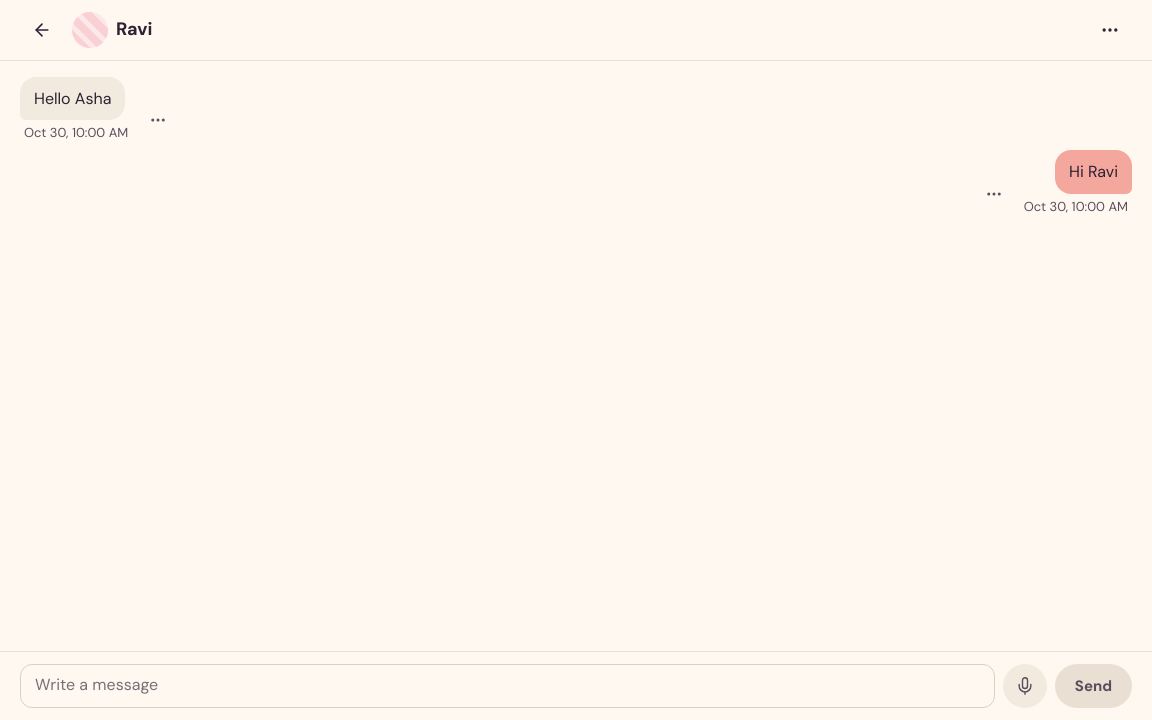
ConversationView › sends a message, adds it to the list and empties the field
This screenshot has width=1152, height=720.
Type " Thanks! " into the text box named "Message to Ravi". click: coordinates (507, 686)
box: top-left (20, 664), bottom-right (995, 708)
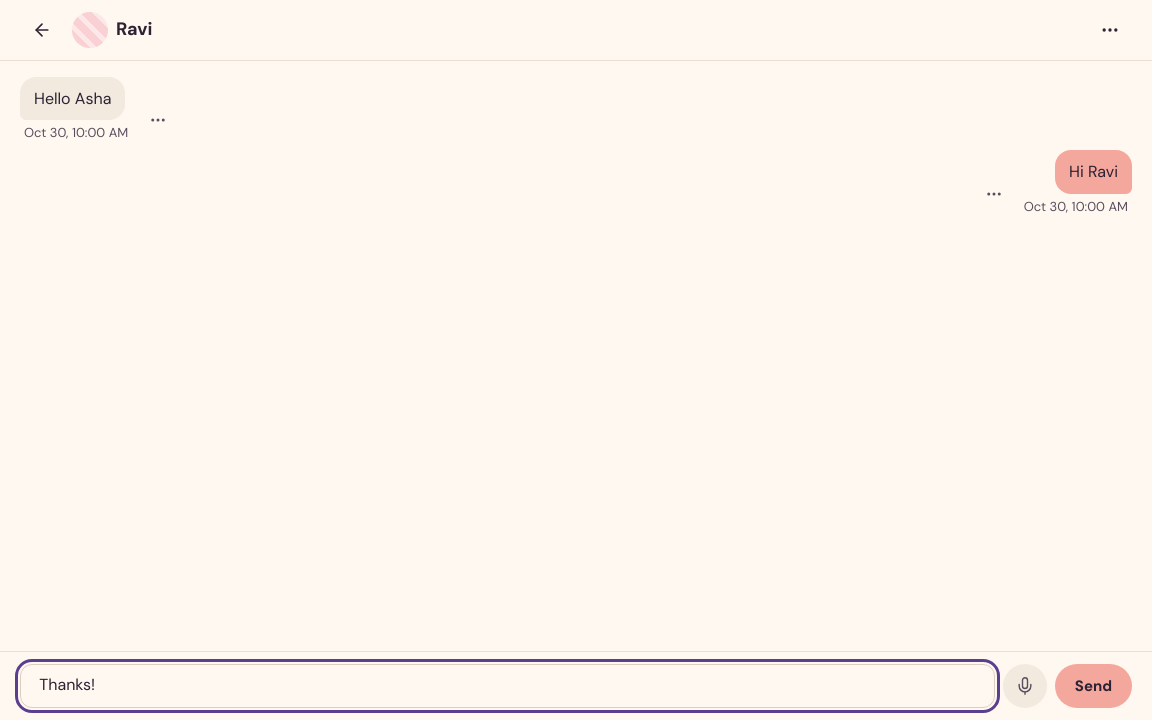
Click the button "Send". click: coordinates (1093, 686)
box: top-left (1055, 664), bottom-right (1132, 708)
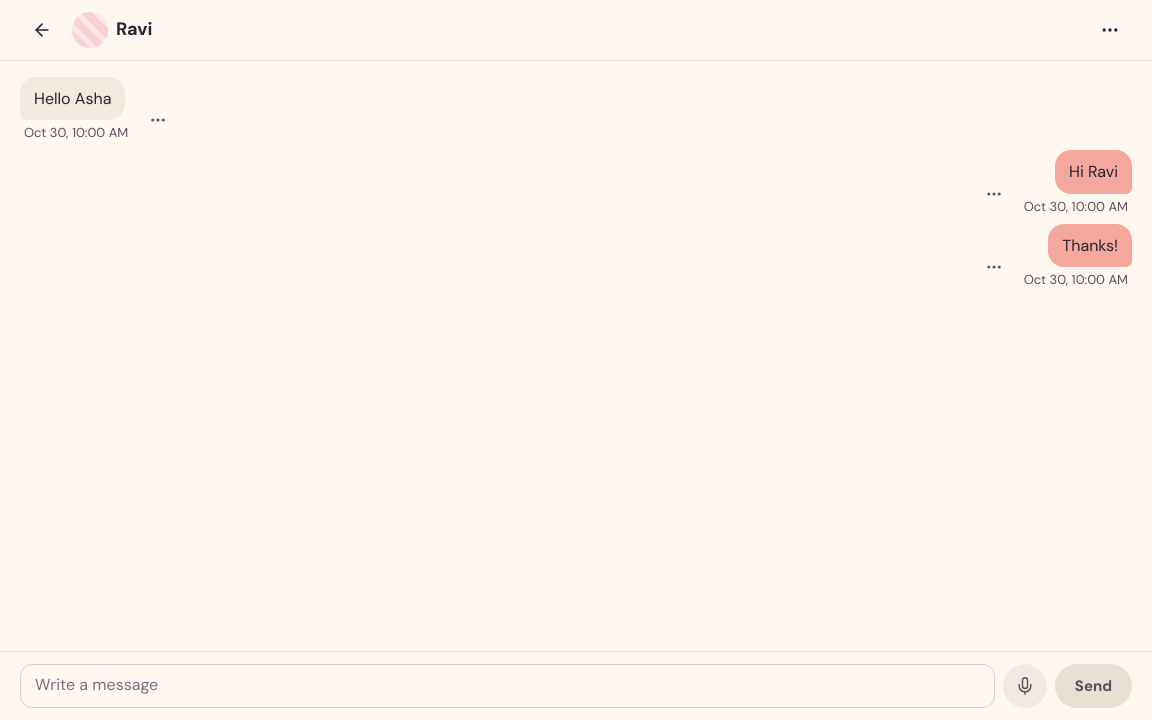
Result: the text "Thanks!" is shown at top-left (1048, 224), bottom-right (1132, 267)
Result: the text box named "Message to Ravi" is empty at top-left (20, 664), bottom-right (995, 708)
